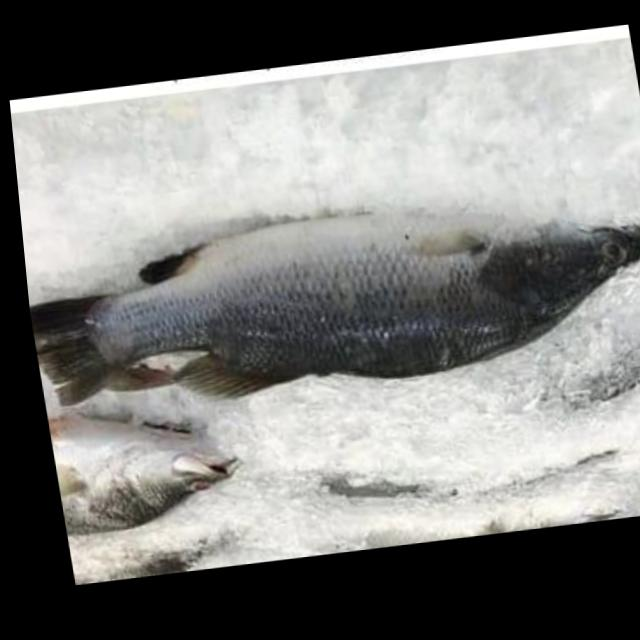Seabass: (20, 175, 640, 422)
